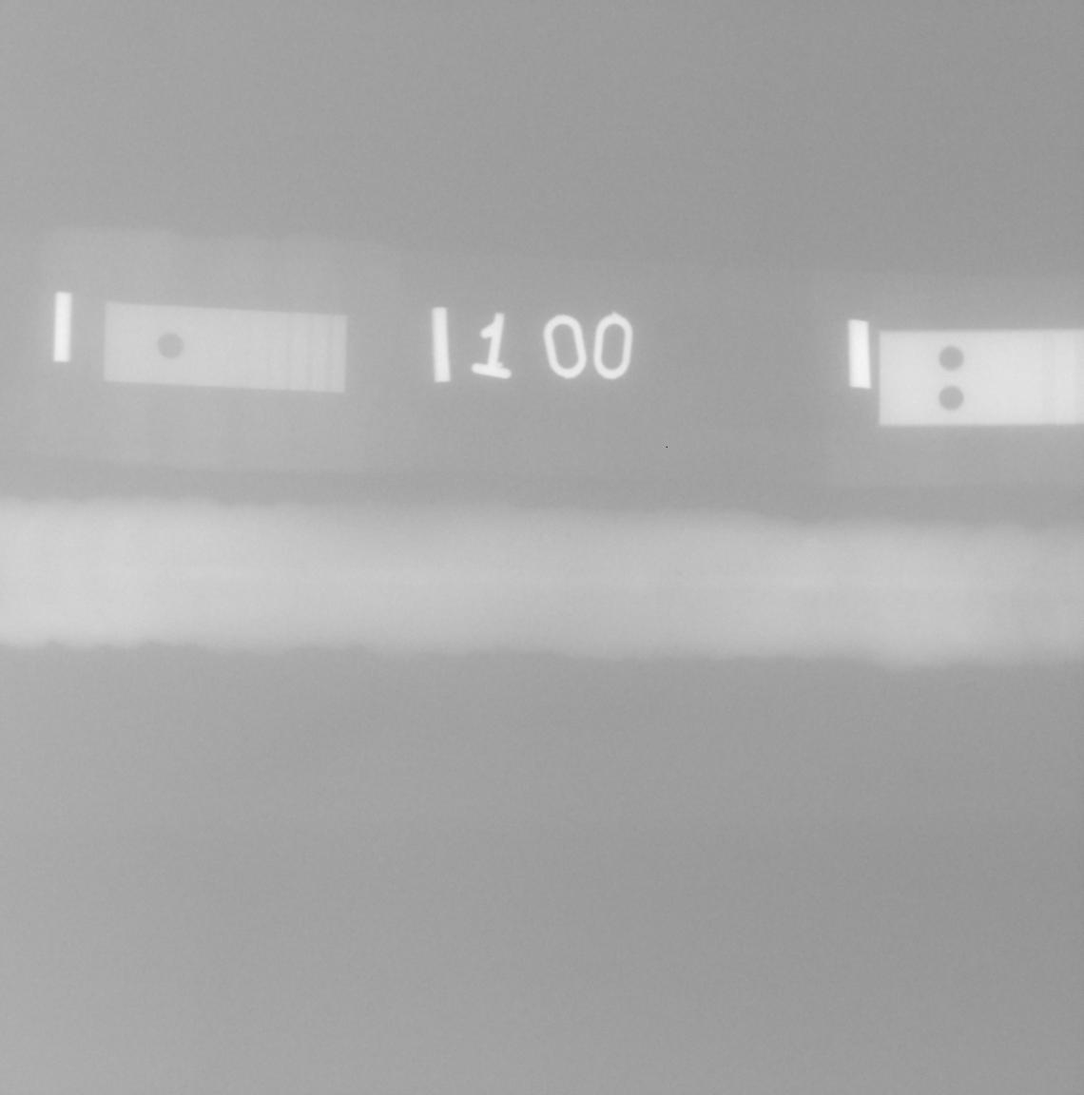Pore/Porosity: (1062, 598, 1078, 605), (672, 568, 683, 576), (561, 532, 573, 539)
Reference Standard 1: (103, 300, 347, 394)
